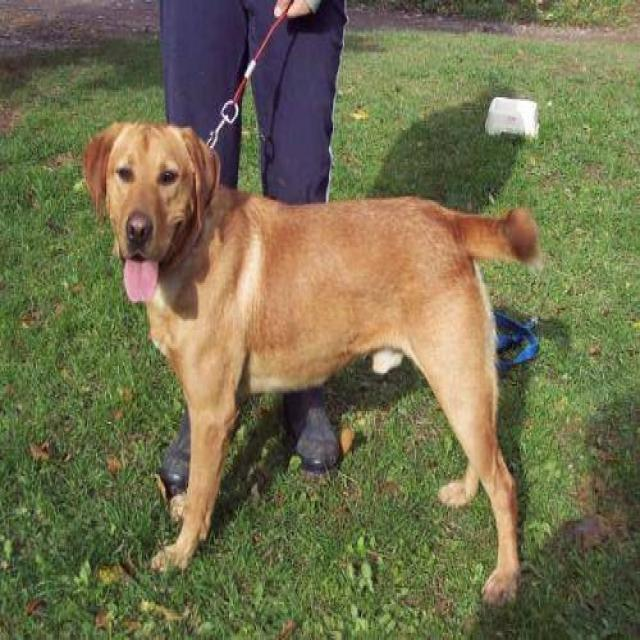dogs: (71, 80, 545, 616)
